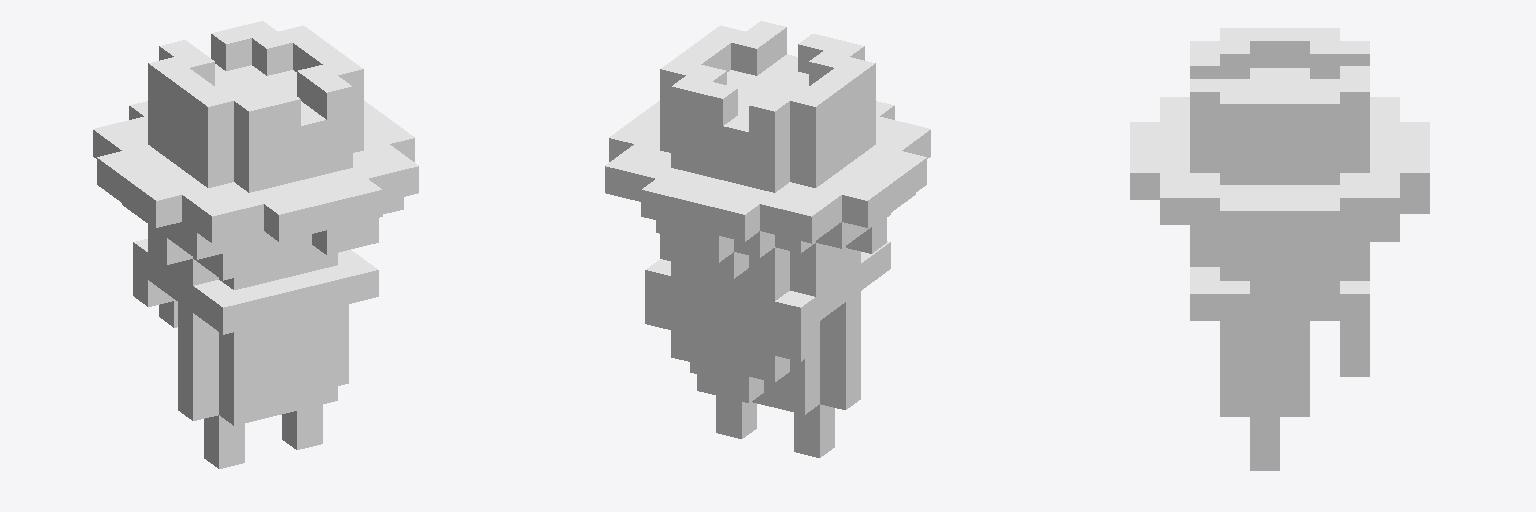
File: Friend.obj
The picture shows the model from 3 angles: view 1: azimuth 30°, elevation 25°; view 2: azimuth 150°, elevation 25°; view 3: azimuth 270°, elevation 25°; orthographic projection.
Visible parts, largest first — view 1: object 1; view 2: object 1; view 3: object 1.
Part boxes in pixels (bbox=[...]): object 1: bbox=[93, 21, 418, 468]; object 1: bbox=[605, 21, 930, 457]; object 1: bbox=[1130, 28, 1429, 470].
Size of the model in its own units: 1 by 1.4 by 1.